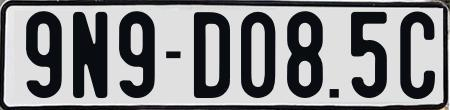0: (241, 9, 276, 99)
5: (351, 9, 390, 96)
8: (287, 11, 327, 104)
9: (119, 9, 159, 102), (23, 8, 59, 101)
C: (399, 9, 433, 97)
D: (193, 9, 229, 101)
N: (70, 9, 108, 101)
